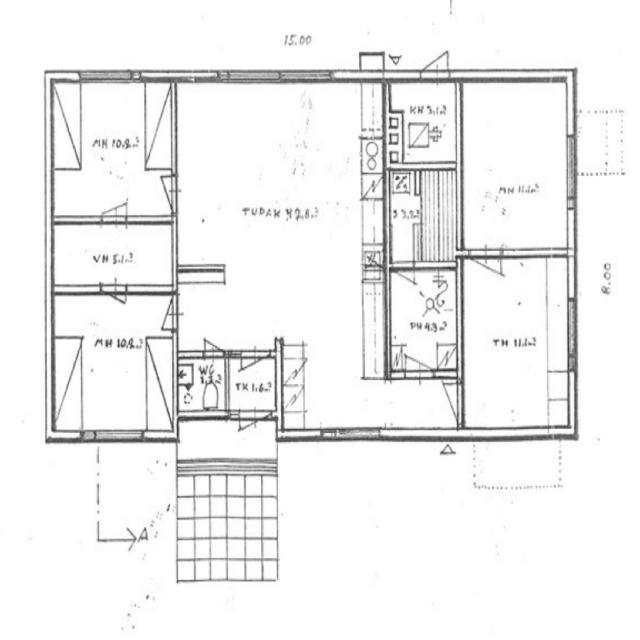door: (468, 249, 506, 305), (418, 30, 449, 81), (240, 409, 271, 459), (427, 384, 462, 424), (143, 176, 178, 214), (405, 332, 434, 377), (242, 350, 270, 394), (146, 295, 178, 330), (101, 286, 128, 327), (101, 181, 128, 222), (391, 261, 417, 301), (201, 322, 222, 357)
